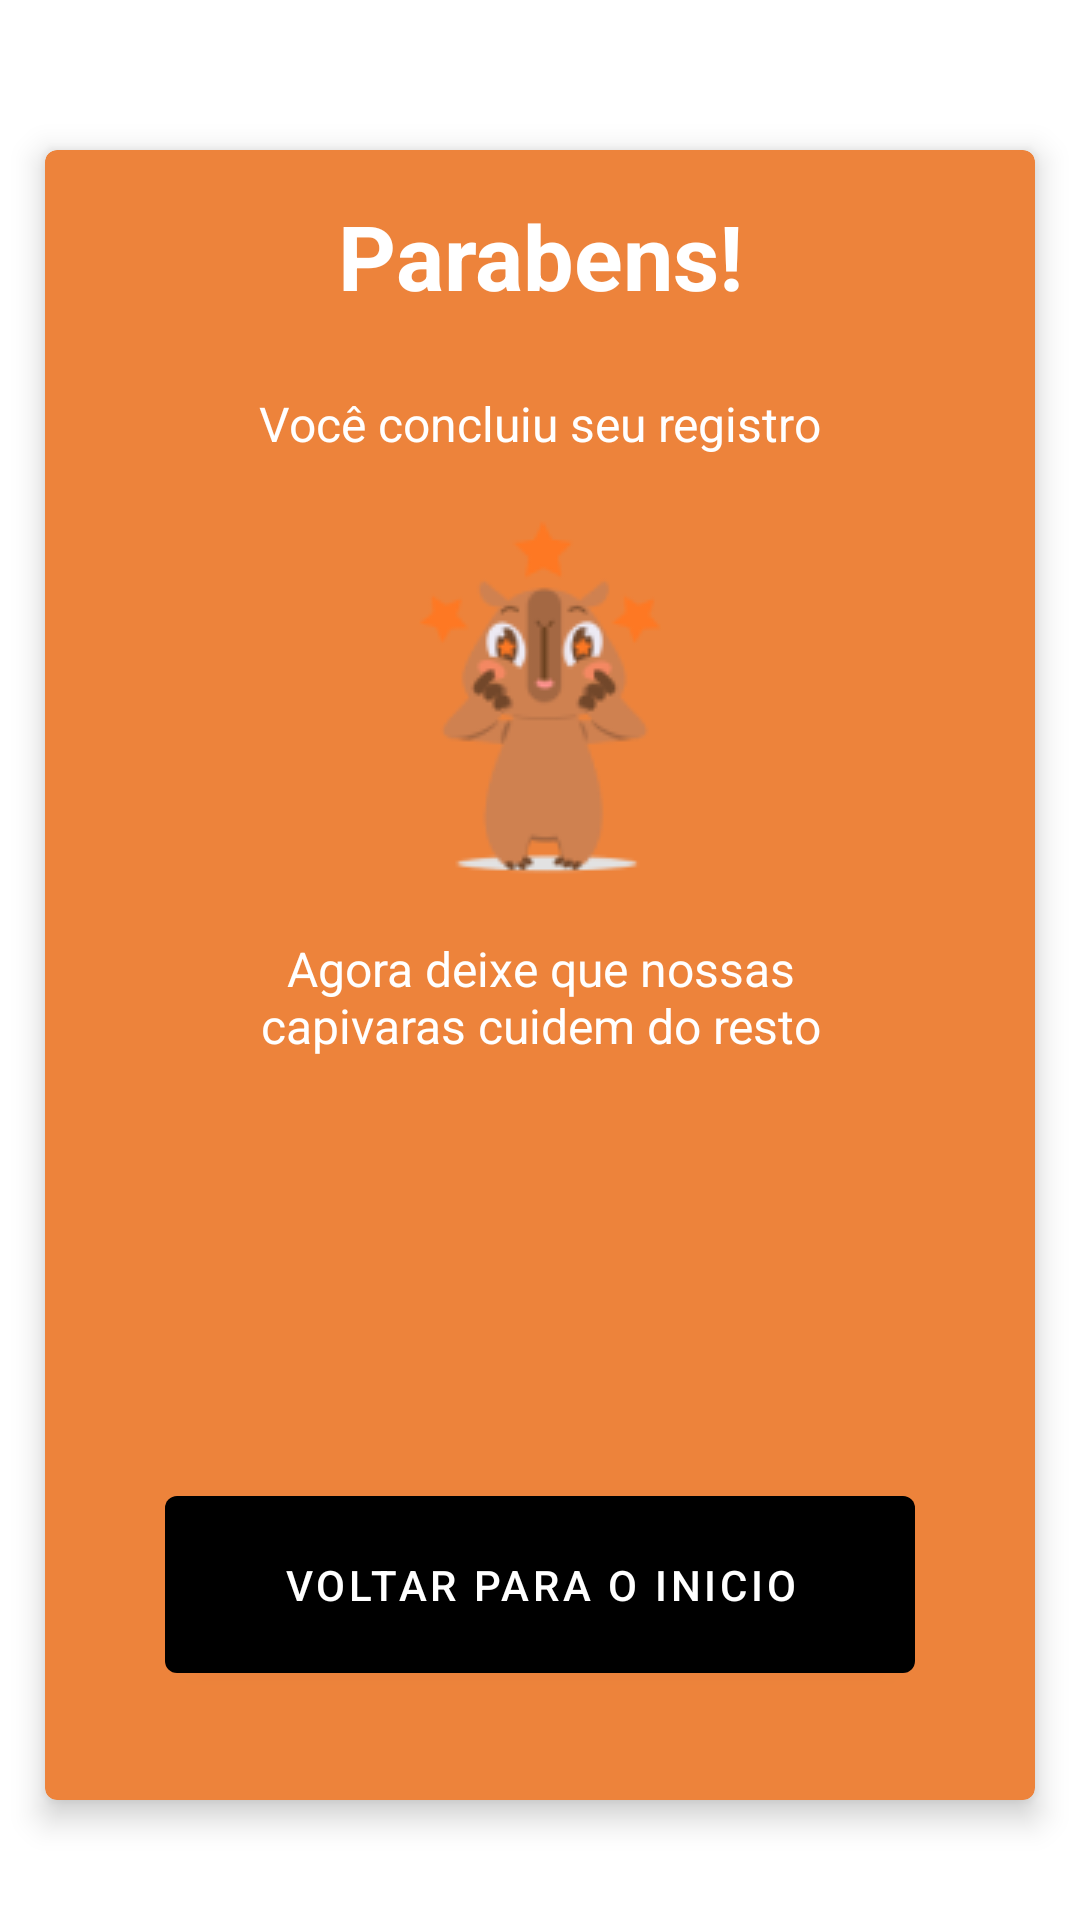

Icon bounding boxes for this 1080 × 1920 phone screenshot, format (x1, y1, x2, y2):
sucesso: (424, 535, 645, 872)
